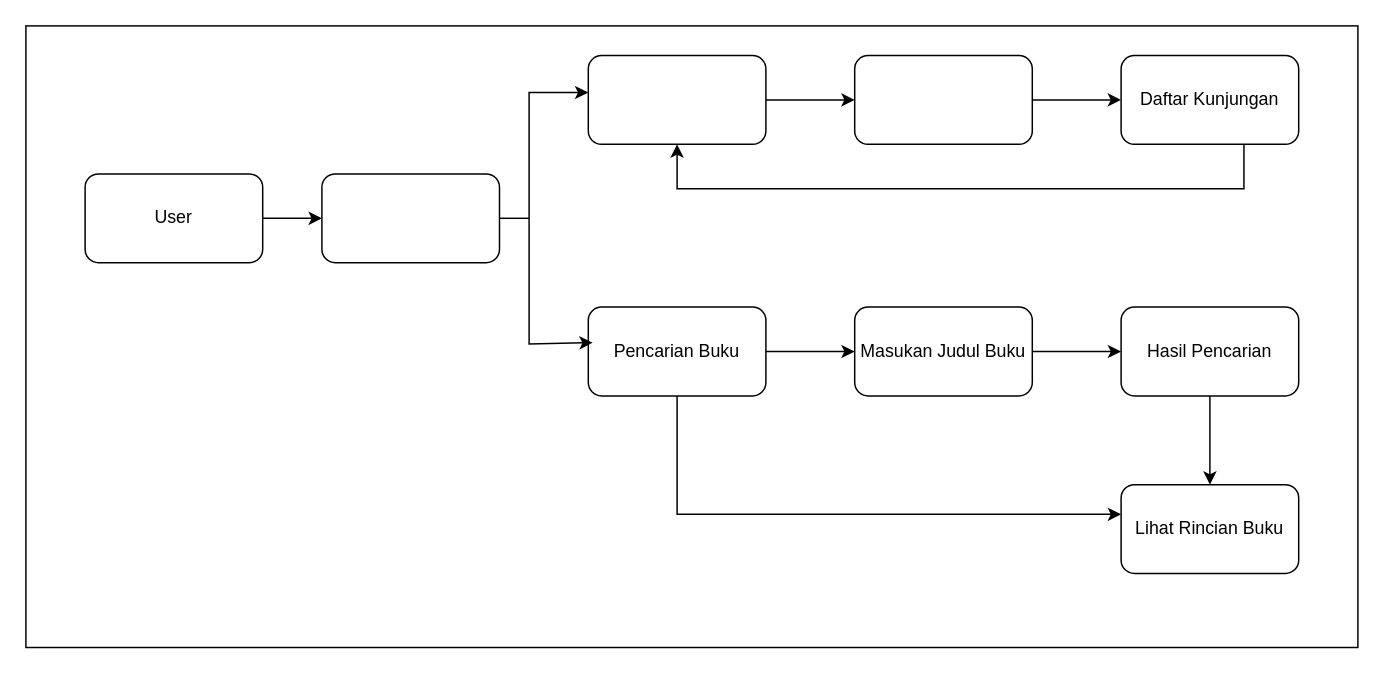
Image size: 1384x675. Some labels were removed from this diagram. The centre of each missing label's shape, as x and y in pixels:
"Isi Form Pengunjung" goes at point 676,99.
"Kirim" goes at point 942,99.
"Mengunjungi Perpus" goes at point 410,217.
